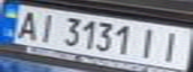1: (112, 21, 136, 56), (78, 17, 96, 52)
3: (93, 19, 115, 54), (57, 15, 81, 47)
A: (9, 7, 42, 40)
I: (154, 29, 190, 63), (136, 25, 163, 60), (33, 11, 60, 44)
